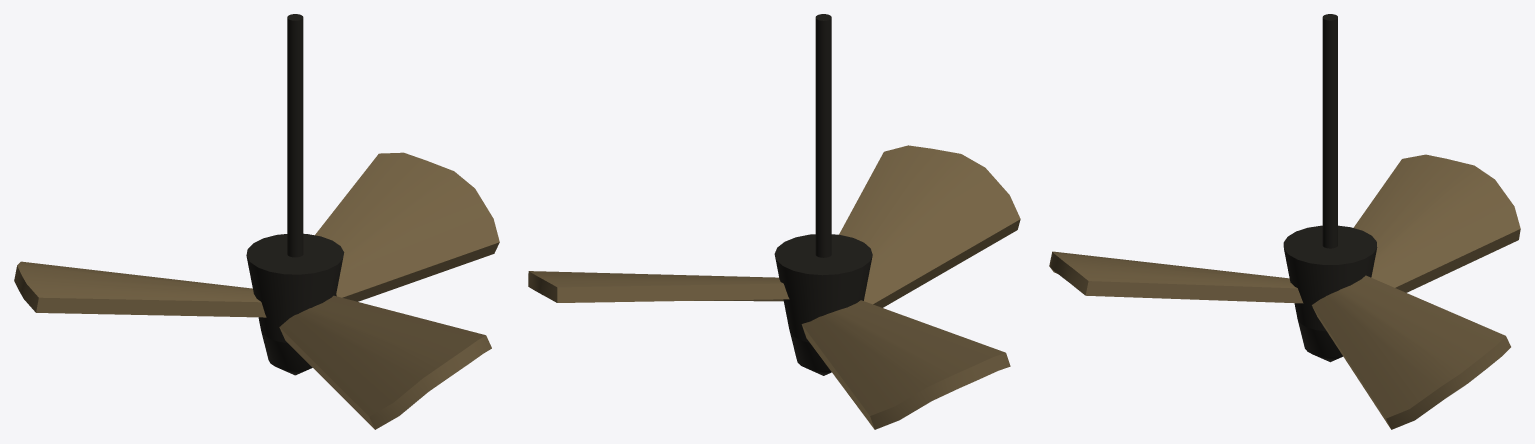
Rendered from CEILING DECO_FAN.fbx.
The picture shows the model from 3 angles, left to right: view 1: azimuth 30°, elevation 25°; view 2: azimuth 150°, elevation 25°; view 3: azimuth 270°, elevation 25°; orthographic projection. The views are drawn at different scales.
Parts seen in each view (by area): view 1: polySurface52; view 2: polySurface52; view 3: polySurface52.
Part boxes in pixels (bbox=[...]): polySurface52: bbox=[14, 14, 499, 429]; polySurface52: bbox=[528, 14, 1020, 429]; polySurface52: bbox=[1049, 14, 1520, 429].
Bounding box in the file's own units: 12.99 × 9.61 × 11.9.
